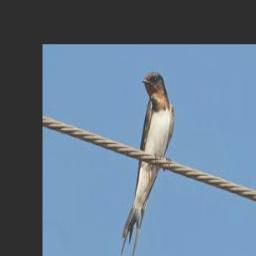Swallow: (121, 72, 174, 256)
